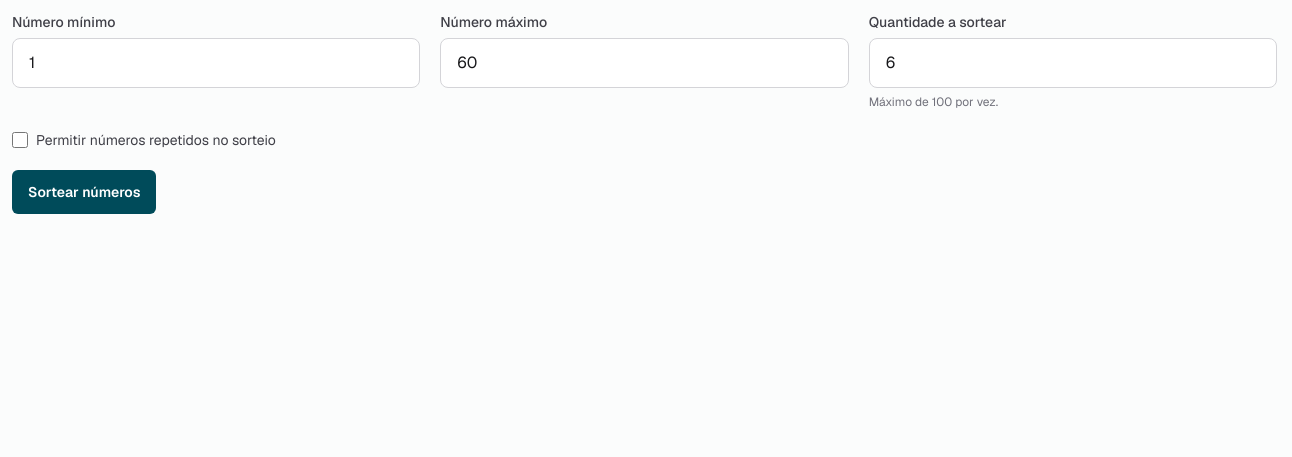
NumberDrawTool › copia o resultado do sorteio e mostra feedback acessível
Click the button "Sortear números": (84, 192) [12, 170, 156, 214]
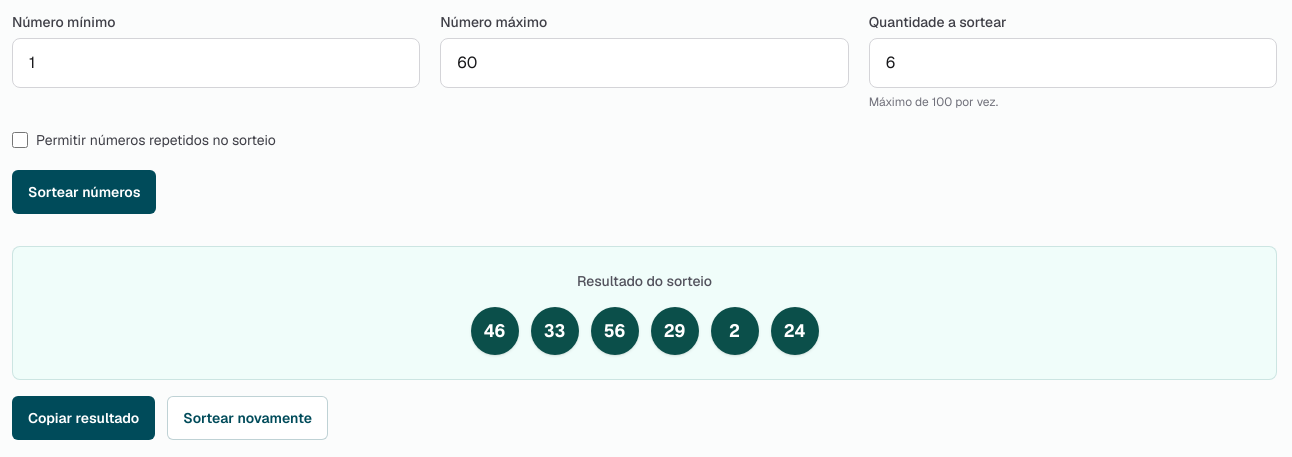
Click the button "Copiar resultado": (84, 418) [12, 396, 155, 440]
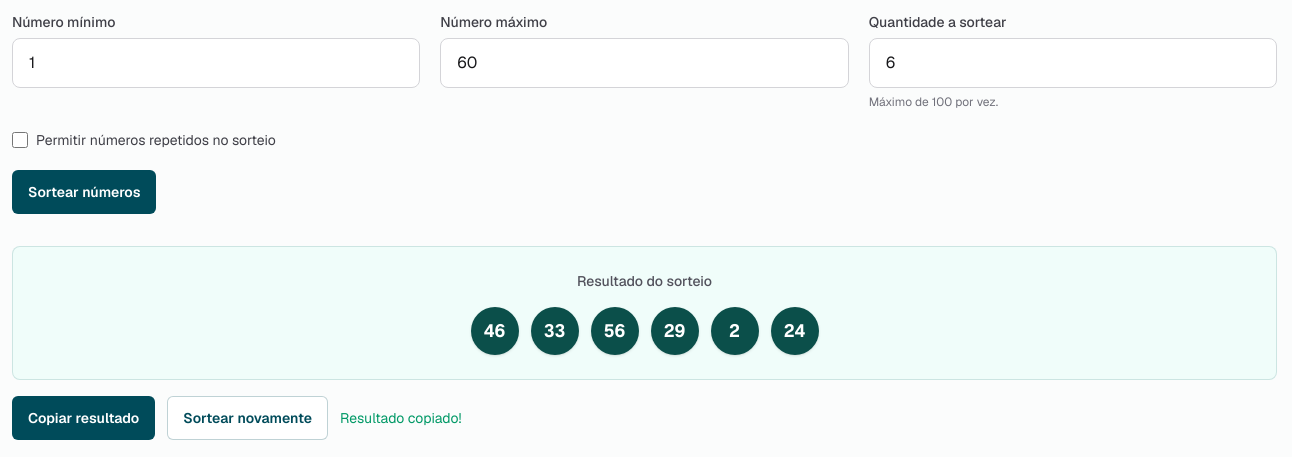
Expected: the message reads "Resultado copiado!", [340, 409, 462, 427]
